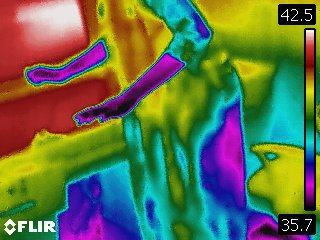human: (23, 1, 248, 240)
